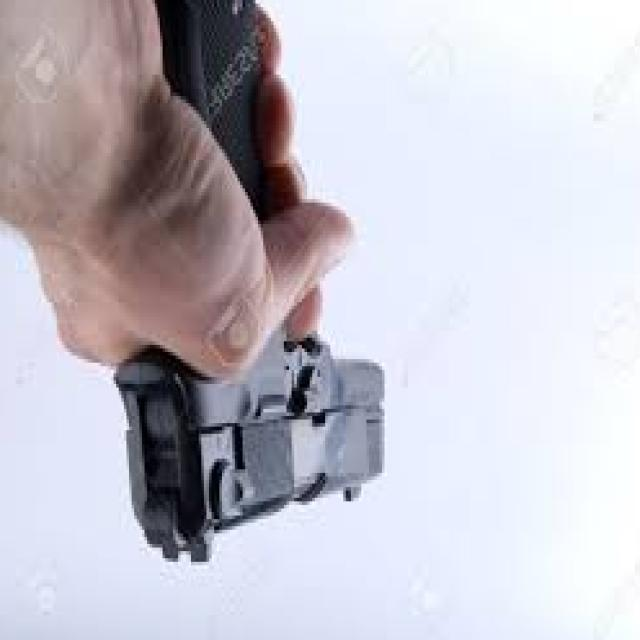gun: (106, 0, 429, 605)
